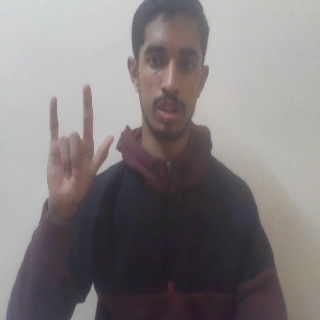Face: (125, 3, 210, 140)
I Love You: (41, 82, 115, 211)
